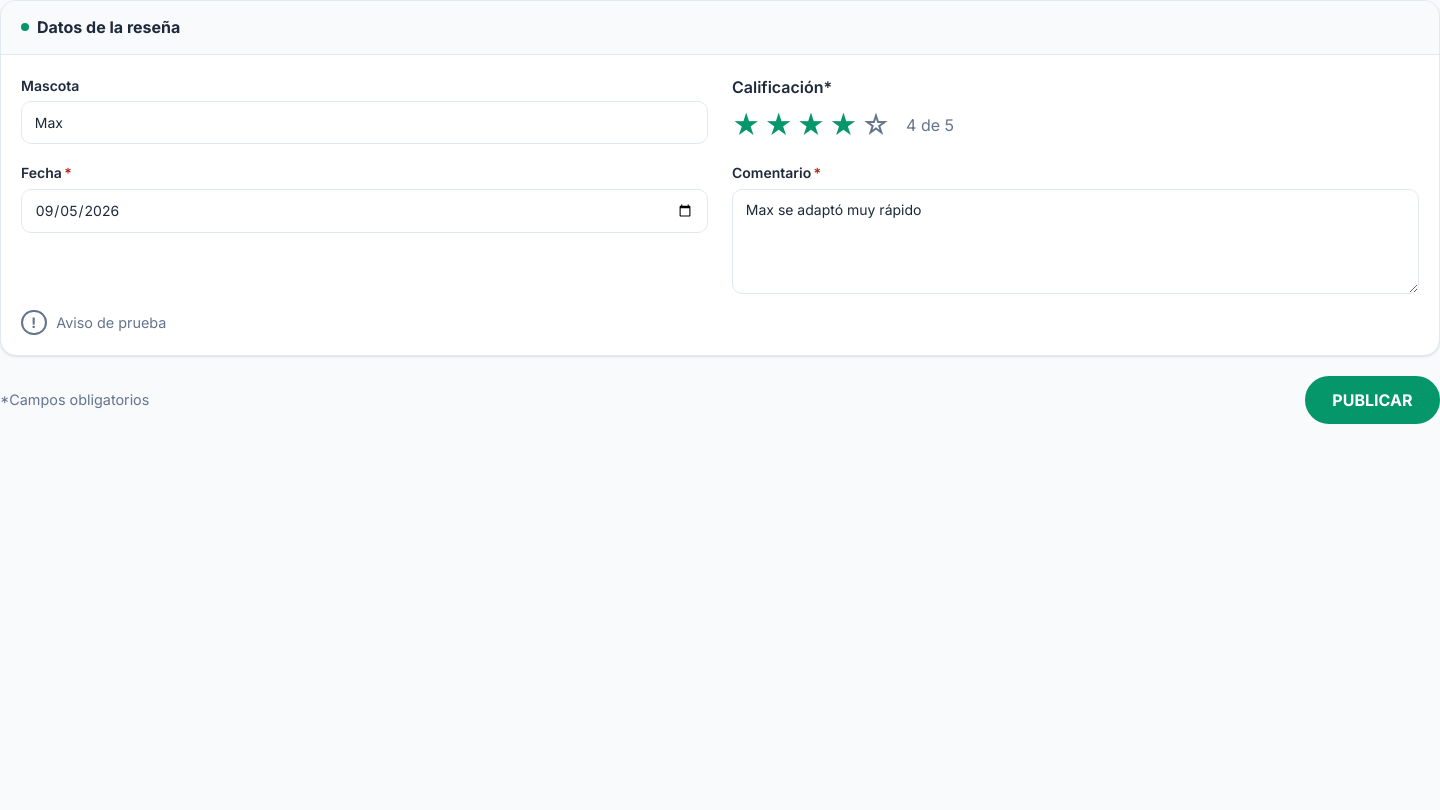
Test: ReviewForm › explains a back-end error tied to a field and returns the focus to it
Step 1. Click the button "Publicar" → [1372, 400], box [1305,376,1439,424]
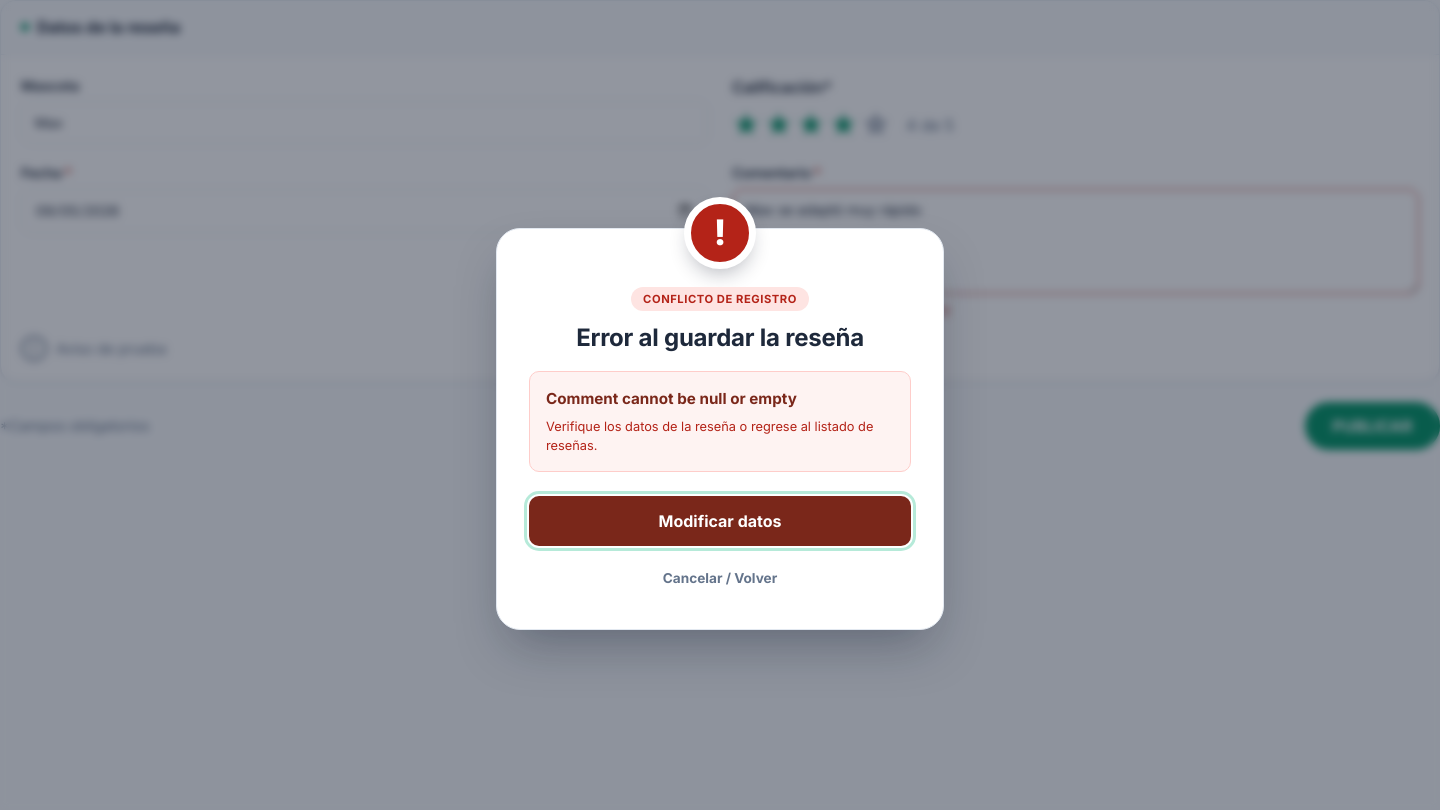
Check: the dialog shows "Error al guardar la reseña", box [576,323,864,352]
Check: the dialog shows "Comment cannot be null or empty", box [546,389,797,408]
Step 2. Click the button "Modificar datos" → [720, 521], box [529,496,911,546]
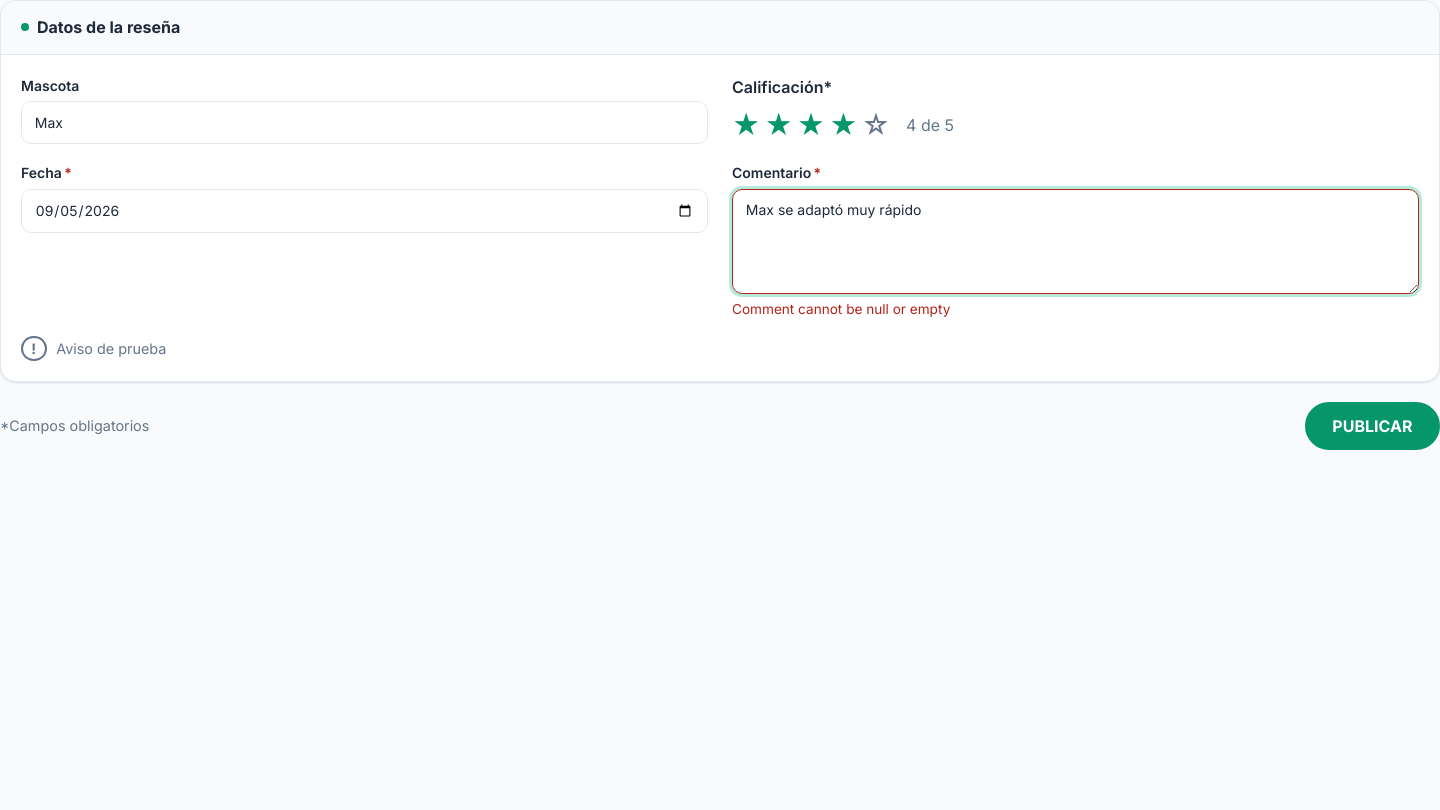
Check: the dialog is gone
